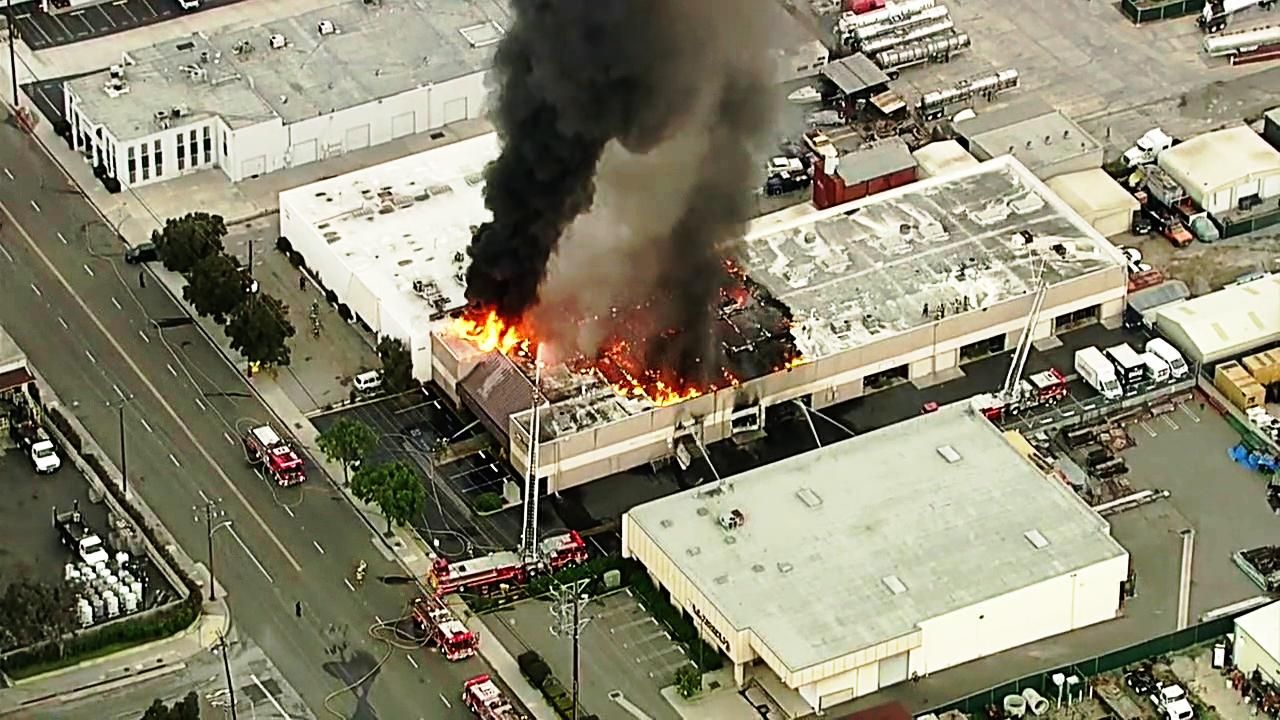fire: (441, 299, 539, 360)
smoke: (460, 1, 718, 300)
